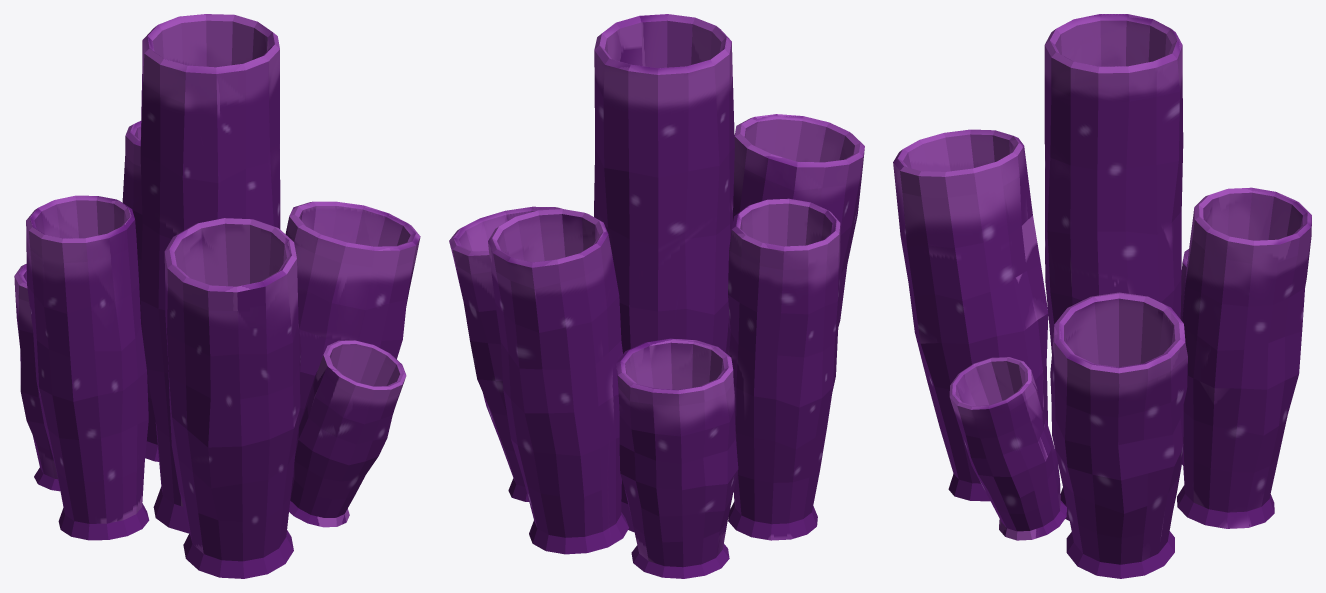
The model's file is coral_tubos.fbx.
The picture shows the model from 3 angles, left to right: view 1: azimuth 30°, elevation 25°; view 2: azimuth 150°, elevation 25°; view 3: azimuth 270°, elevation 25°; orthographic projection.
Parts seen in each view (by area): view 1: coral_tubos; view 2: coral_tubos; view 3: coral_tubos.
Part boxes in pixels (x1,y1,x2,y2): coral_tubos: (14,14,420,578); coral_tubos: (449,14,864,578); coral_tubos: (893,14,1311,578).
Size of the model in its own units: 41.46 by 49.81 by 40.3.
